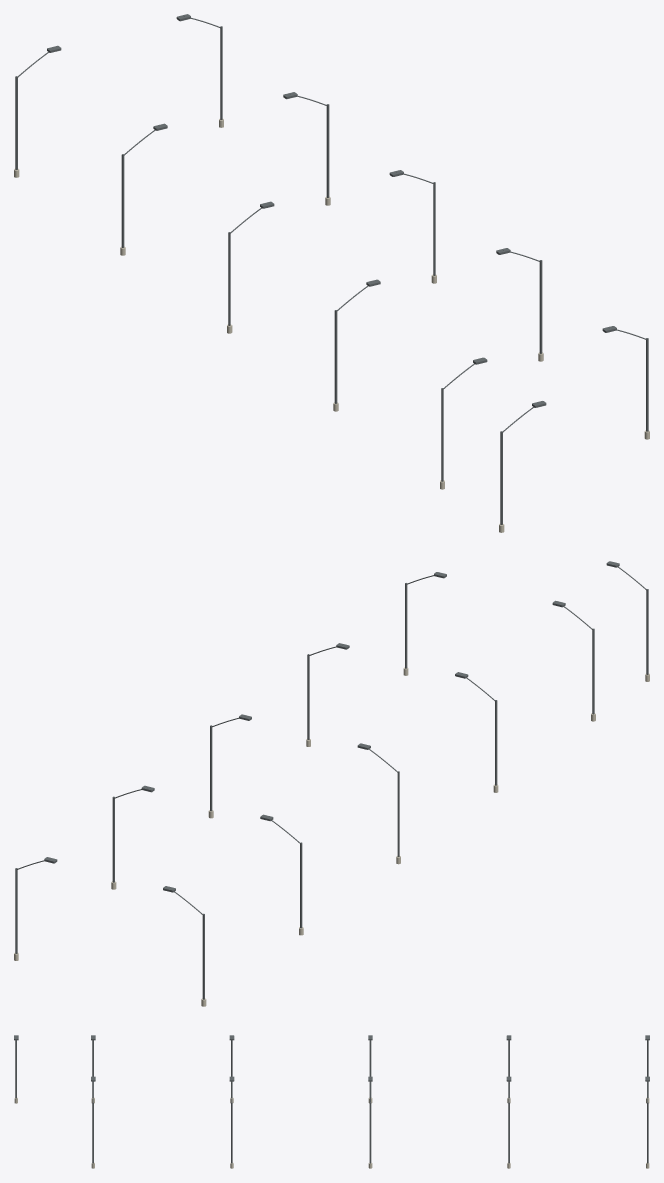
The picture shows the model from 3 angles, top to bottom: view 1: azimuth 30°, elevation 25°; view 2: azimuth 150°, elevation 25°; view 3: azimuth 270°, elevation 25°; orthographic projection. The views are drawn at different scales.
Parts seen in each view (by area): view 1: buildings_s_-3_3_Dark_Metal; view 2: buildings_s_-3_3_Dark_Metal; view 3: buildings_s_-3_3_Dark_Metal, buildings_s_-3_3_Warm_Limestone.
Part boxes in pixels (<box>): buildings_s_-3_3_Dark_Metal: <box>15,14,648,524</box>; buildings_s_-3_3_Dark_Metal: <box>15,561,648,999</box>; buildings_s_-3_3_Dark_Metal: <box>14,1035,649,1163</box>; buildings_s_-3_3_Warm_Limestone: <box>14,1097,649,1168</box>.
Size of the model in its own units: 30.67 by 16.75 by 124.
